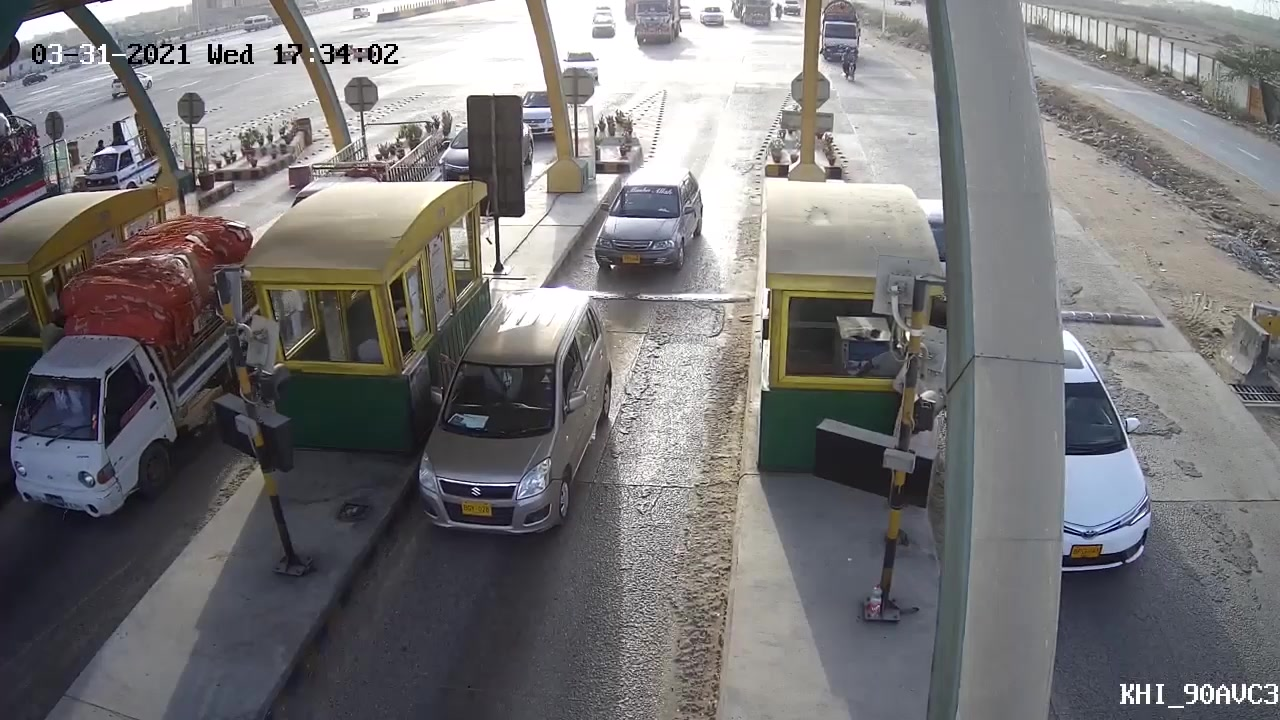F1: (411, 286, 616, 535)
